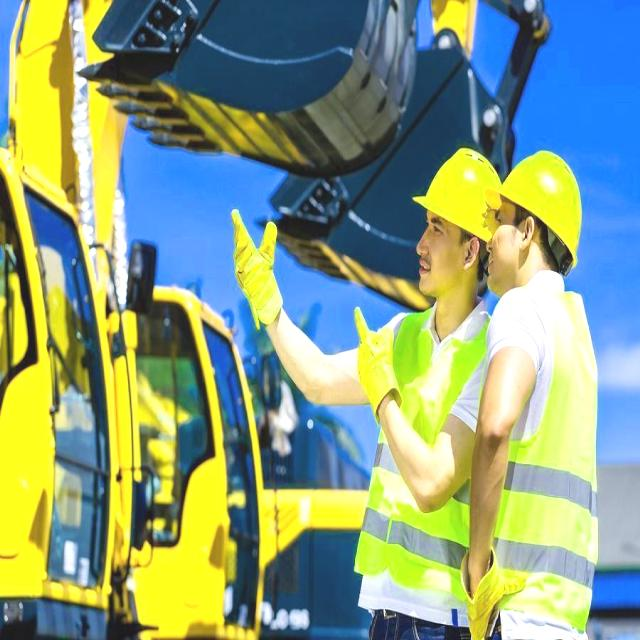face_nomask: (409, 210, 462, 297), (482, 210, 523, 291)
hand_glove: (347, 305, 407, 414), (232, 207, 286, 328)
head_helmet: (490, 155, 590, 261), (414, 148, 498, 248)
person: (373, 141, 482, 621), (494, 148, 598, 640)
vest: (498, 290, 596, 627), (369, 316, 482, 583)
